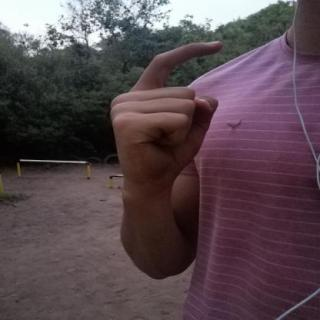RAA: (105, 32, 233, 186)
